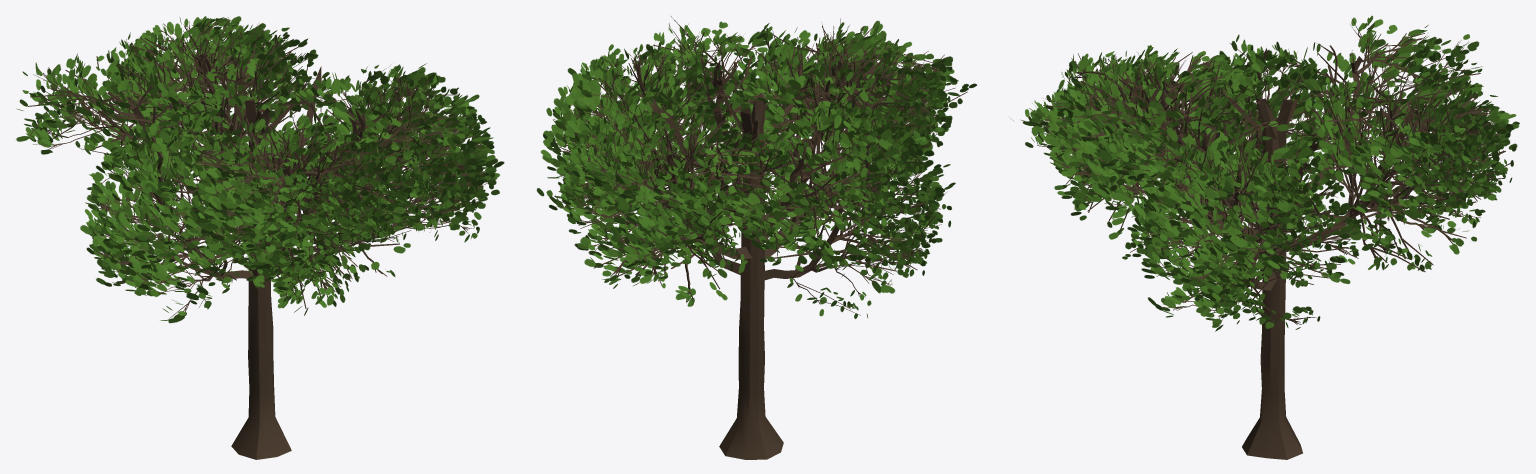
3 views of the same model, side by side, from view 1: azimuth 30°, elevation 25°; view 2: azimuth 150°, elevation 25°; view 3: azimuth 270°, elevation 25° (orthographic).
Visible parts, largest first — view 1: oak 01.001_trunk_Mat.001_0.004; view 2: oak 01.001_trunk_Mat.001_0.004; view 3: oak 01.001_trunk_Mat.001_0.004.
Boxes of the visible parts, bbox=[...] form: oak 01.001_trunk_Mat.001_0.004: bbox=[16, 16, 504, 459]; oak 01.001_trunk_Mat.001_0.004: bbox=[536, 16, 976, 459]; oak 01.001_trunk_Mat.001_0.004: bbox=[1009, 15, 1519, 459].
Bounding box in the file's own units: 5.9 × 4.86 × 6.22.
Materials: 2 (1 with a texture image).
